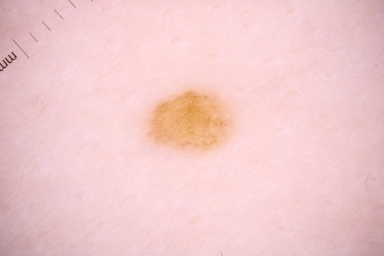melanoma: (146, 90, 234, 151)
